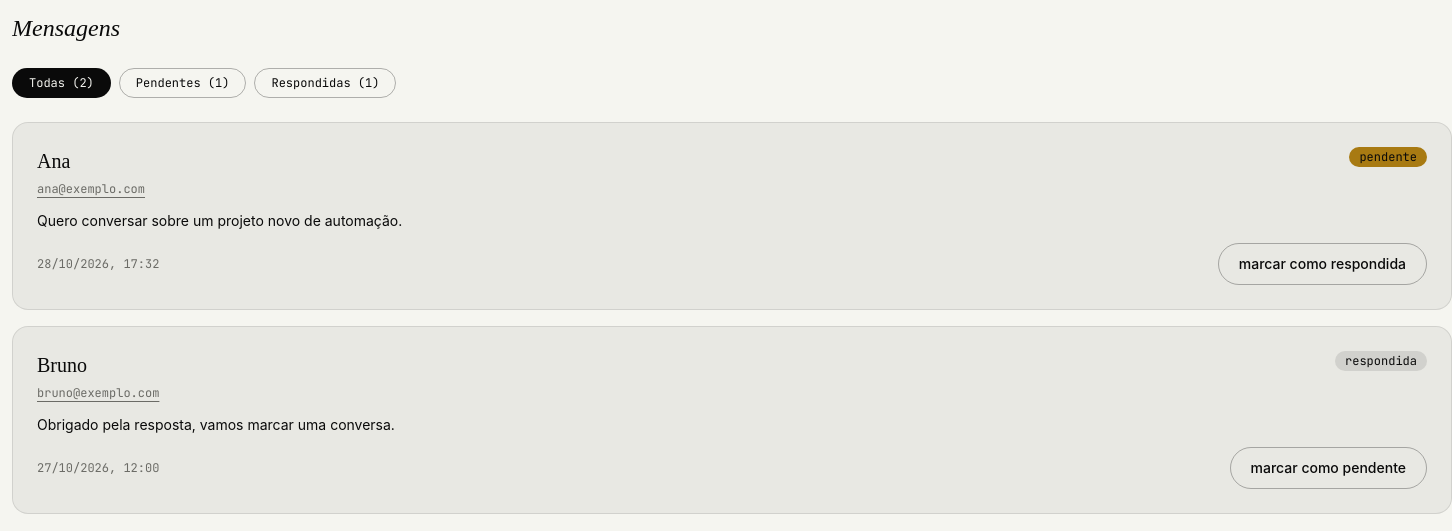
Test: MessagesPanel › filtra as pendentes, mostra a contagem e guarda o filtro na URL
This screenshot has width=1452, height=531.
Expected: the heading "Ana" is shown, 37,150 -> 70,172
Click the button "Pendentes (1)".
click(183, 83)  # box 119,68 -> 246,98
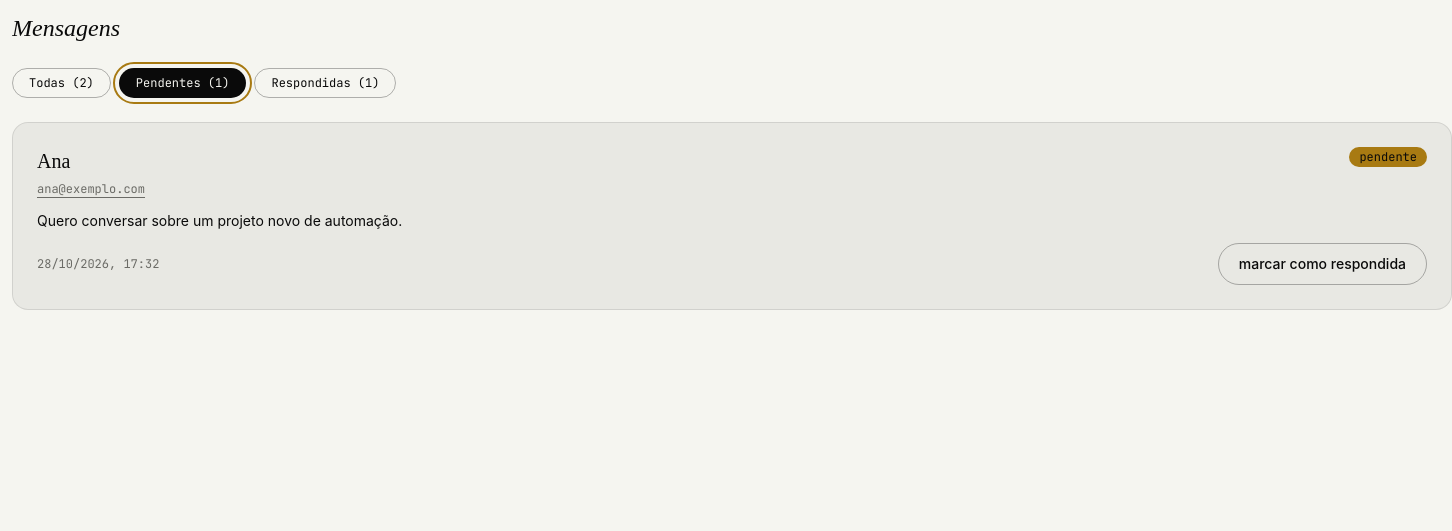
Now the heading "Bruno" is gone
